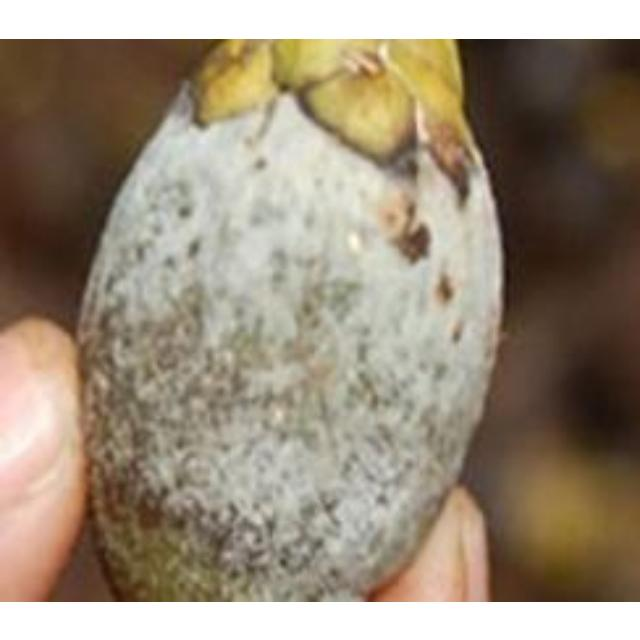damaged: (79, 38, 504, 599)
